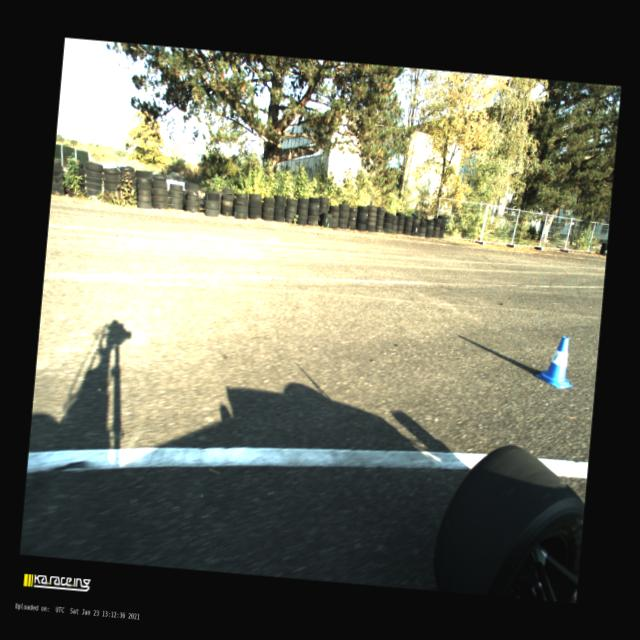blue_cone: (534, 334, 576, 389)
